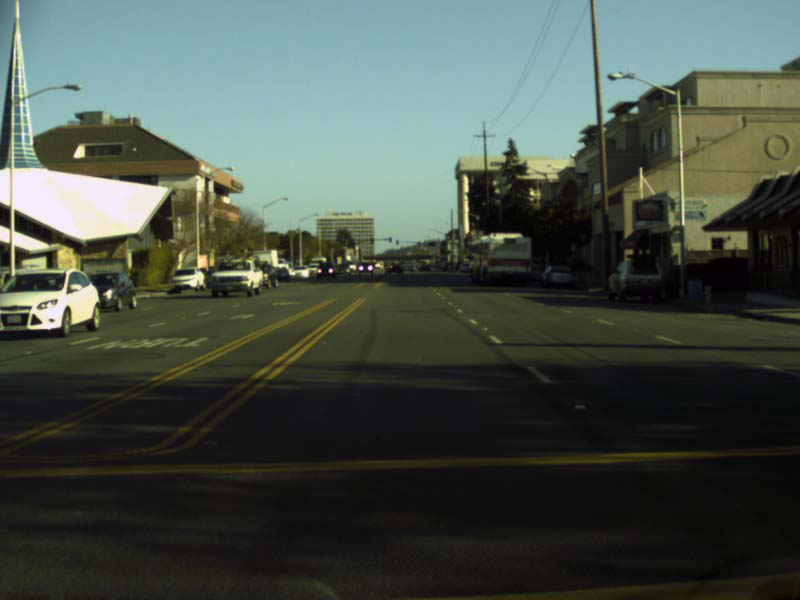Green: (417, 241, 420, 247)
Red: (395, 240, 399, 244)
